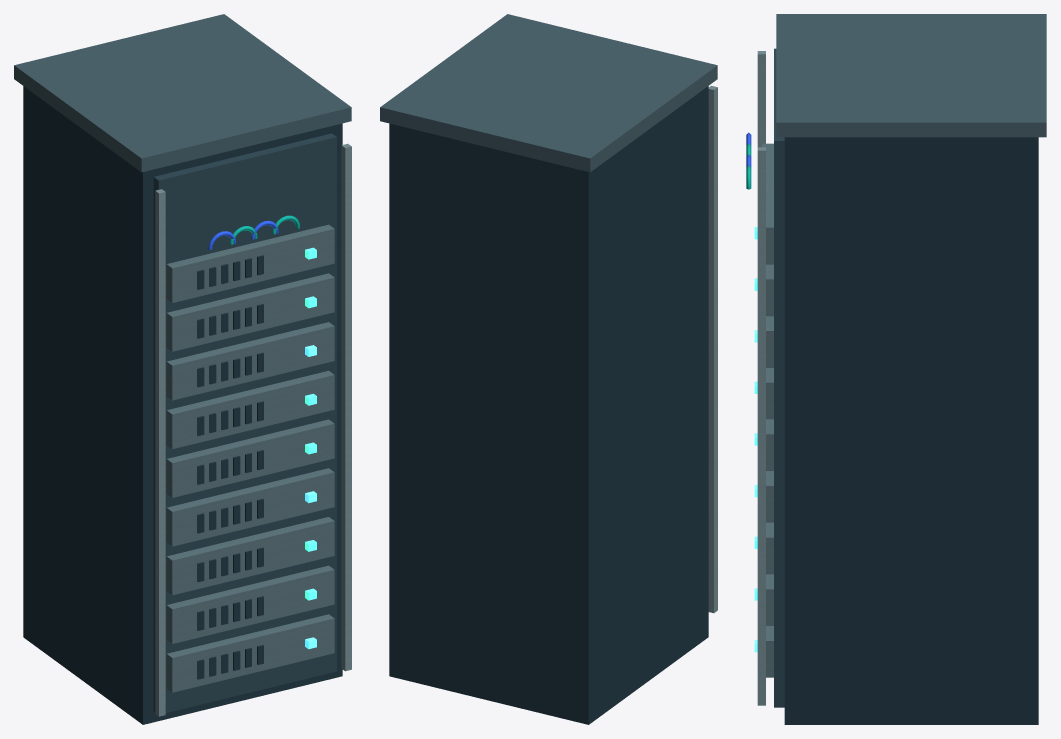
Rendered from server.glb.
The picture shows the model from 3 angles, left to right: view 1: azimuth 30°, elevation 25°; view 2: azimuth 150°, elevation 25°; view 3: azimuth 270°, elevation 25°; orthographic projection. The views are drawn at different scales.
Parts seen in each view (by area): view 1: server; view 2: server; view 3: server.
Part boxes in pixels (x1,y1,x2,y2): server: (14,14,351,724); server: (380,14,717,724); server: (746,14,1046,724).
Bounding box in the file's own units: 0.79 × 2.05 × 0.923.
Materials: 9 (2 with a texture image).
